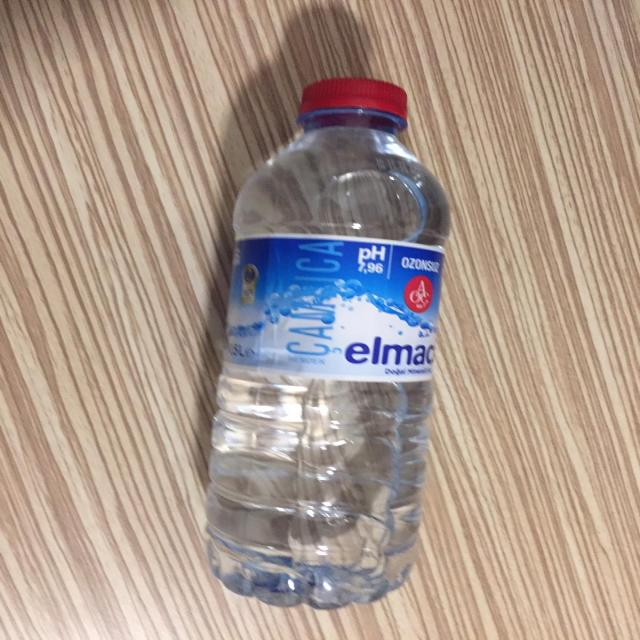bottle: (198, 53, 475, 638)
